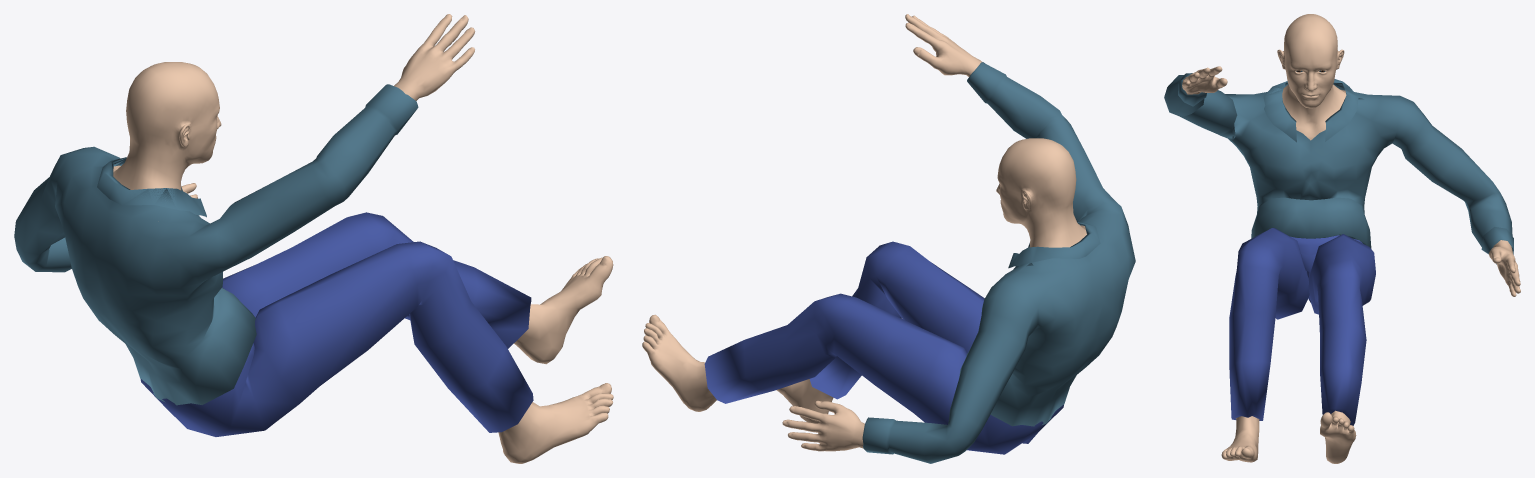
Rendered from float_blue.dae.
3 renders of one model, left to right at view 1: azimuth 30°, elevation 25°; view 2: azimuth 150°, elevation 25°; view 3: azimuth 270°, elevation 25°, orthographic. The views are drawn at different scales.
Parts seen in each view (by area): view 1: human; view 2: human; view 3: human.
Part boxes in pixels (box(x1,y1,x2,y2)): human: box(14, 14, 613, 463); human: box(642, 14, 1135, 463); human: box(1164, 14, 1520, 463).
Size of the model in its own units: 1.21 by 0.9467 by 1.07.
